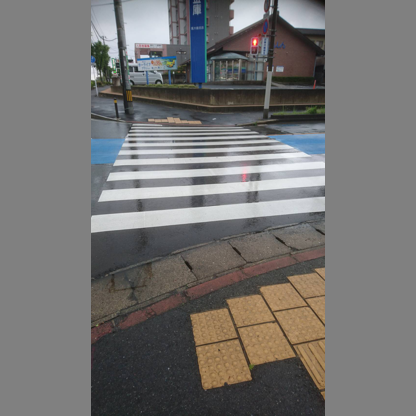brailleblock: (226, 298, 290, 357), (259, 286, 319, 339), (198, 312, 239, 386)
crosswalk: (91, 121, 324, 234)
signal: (248, 34, 261, 57)
